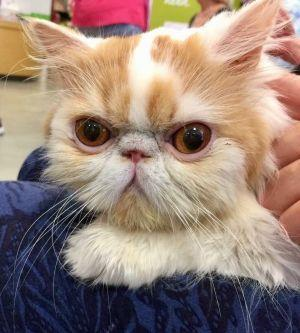persian: (22, 2, 273, 247)
